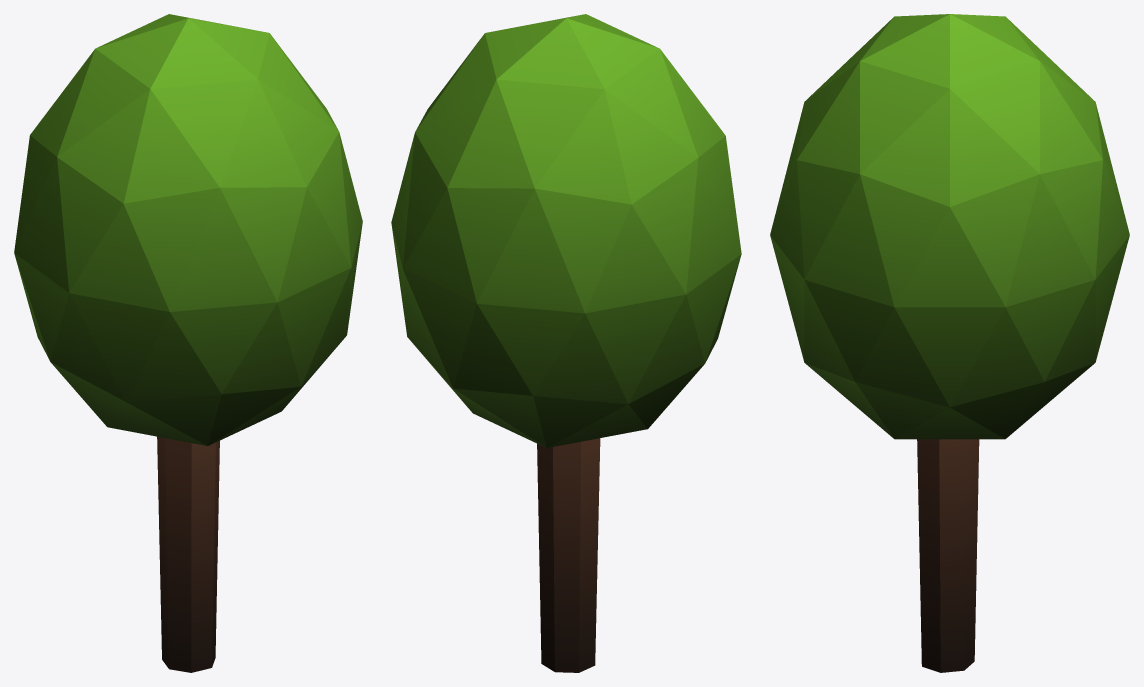
The model's file is tree2.fbx.
3 renders of one model, left to right at view 1: azimuth 30°, elevation 25°; view 2: azimuth 150°, elevation 25°; view 3: azimuth 270°, elevation 25°, orthographic.
Visible parts, largest first — view 1: Cube.579; view 2: Cube.579; view 3: Cube.579.
Part boxes in pixels (<box>): Cube.579: <box>14,14,362,672</box>; Cube.579: <box>391,14,741,672</box>; Cube.579: <box>770,14,1129,672</box>.
Size of the model in its own units: 7.35 by 15.35 by 7.73.
Materials: 1 (1 with a texture image).
